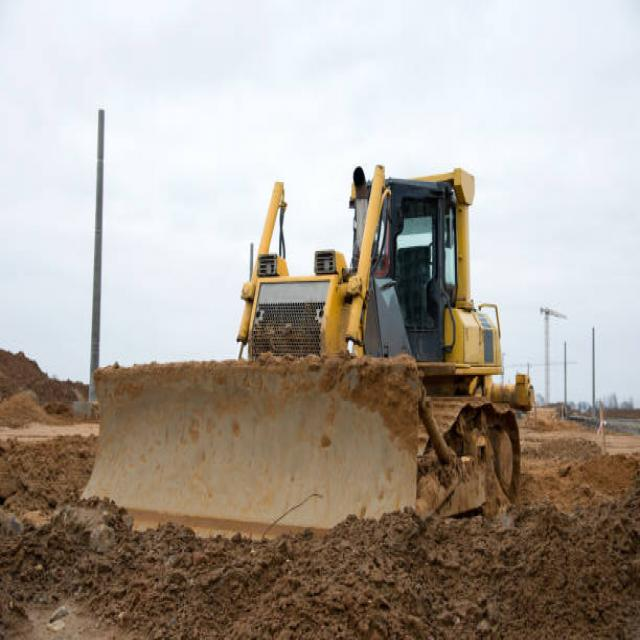Bulldozer: (80, 162, 542, 552)
